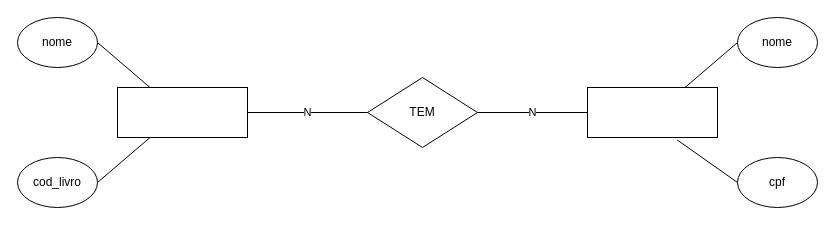
Some shapes in this 835 by 225 pixel diagram are drawn without their labels. Each missing label, with the centre of its shape:
"AUTORES" goes at point 652,112.
"LIVRO" goes at point 182,112.
